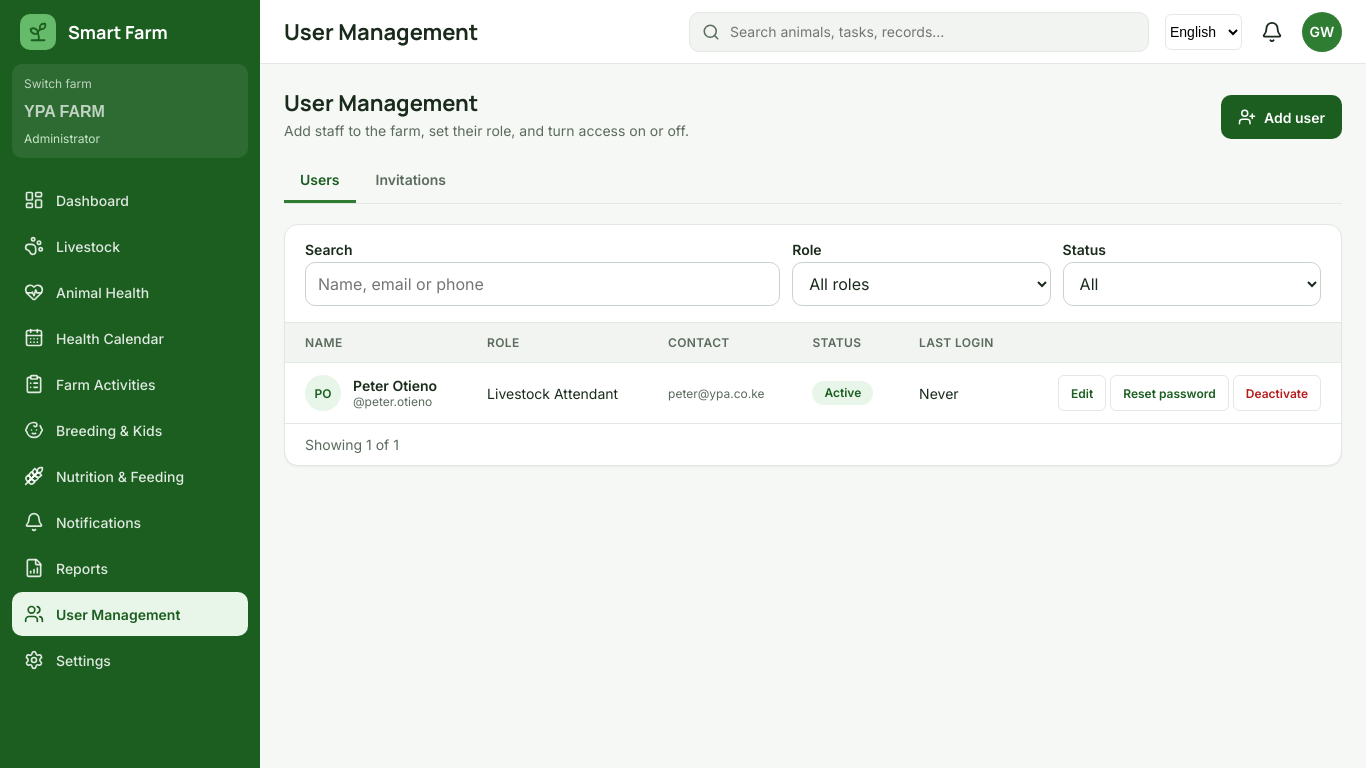
Test: User Management › does not show a success toast when the API refuses
Click the button with aria-label "Deactivate Peter Otieno".
click(1277, 393)  # box x1=1233 y1=375 x2=1321 y2=411
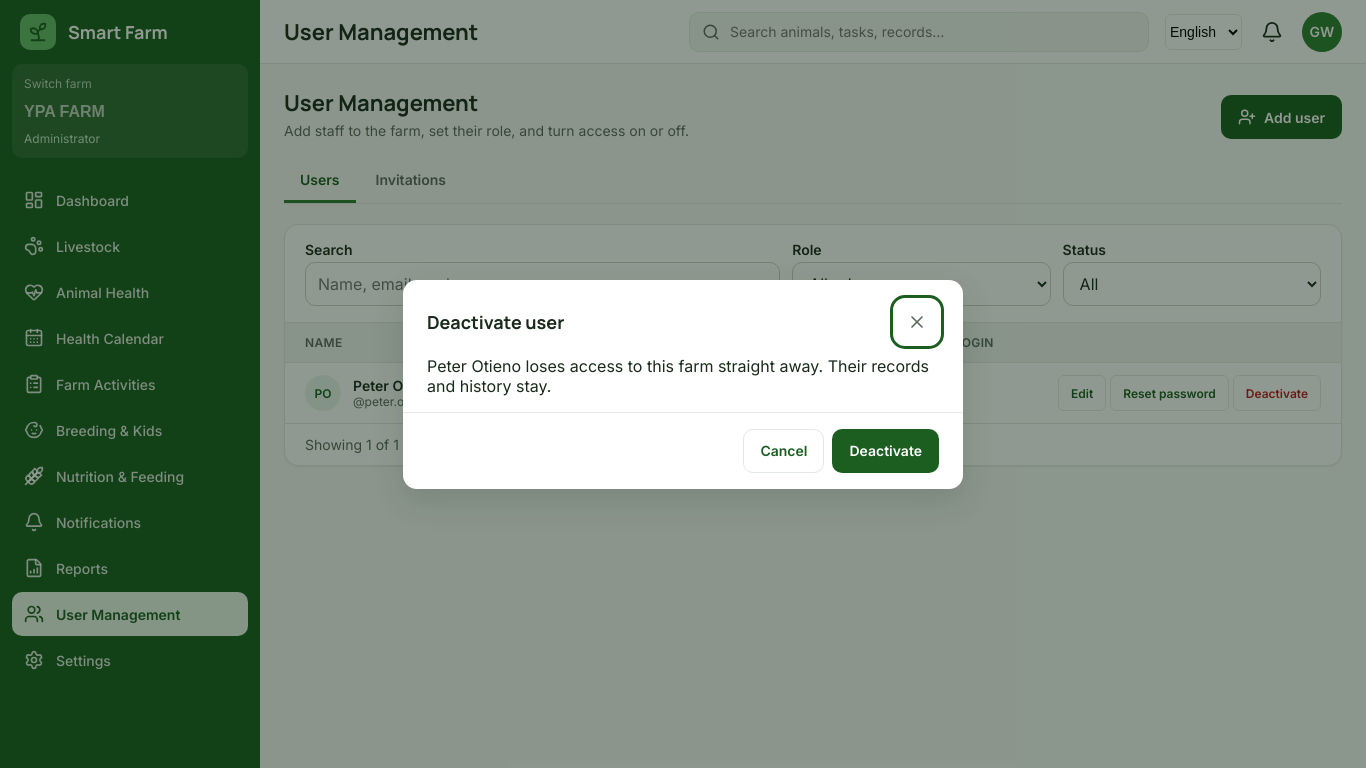
Click the button "Deactivate".
click(886, 450)  # box x1=832 y1=428 x2=939 y2=472
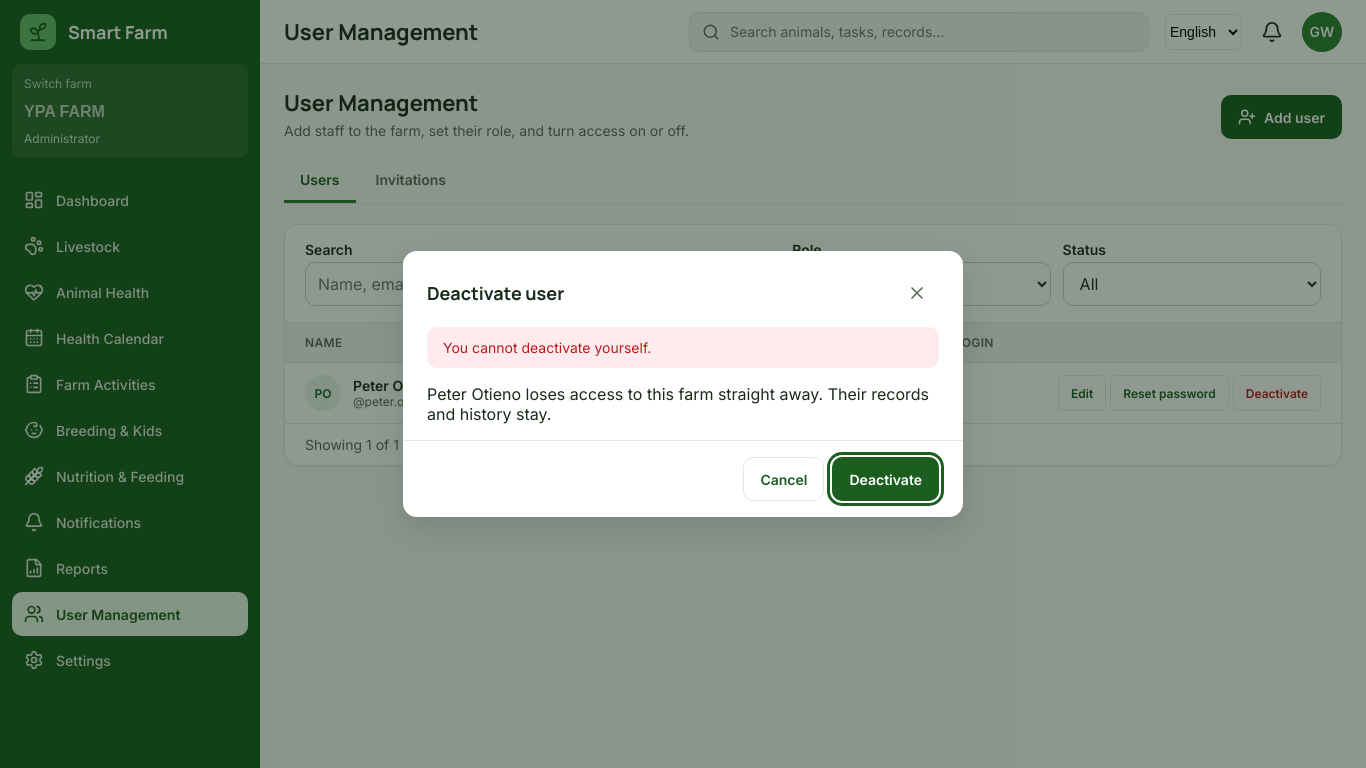
Expected: the text "You cannot deactivate yourself." is shown, x1=427 y1=327 x2=939 y2=368
